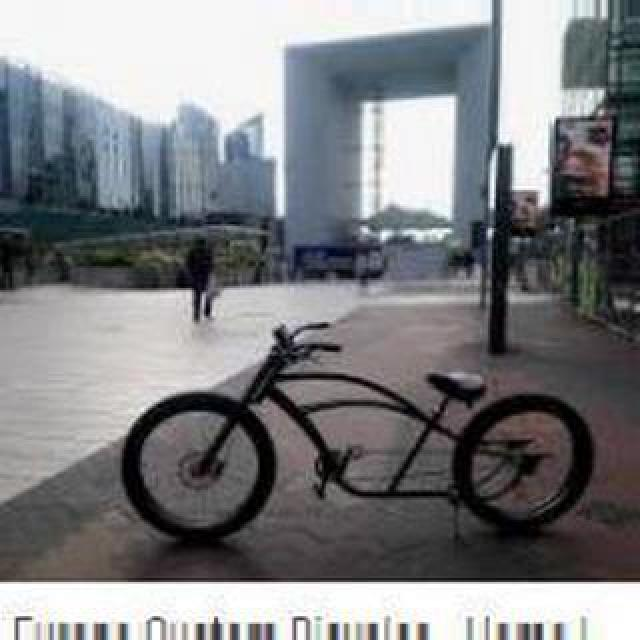MC-Bike: (188, 238, 216, 322)
Person: (119, 314, 599, 554)
